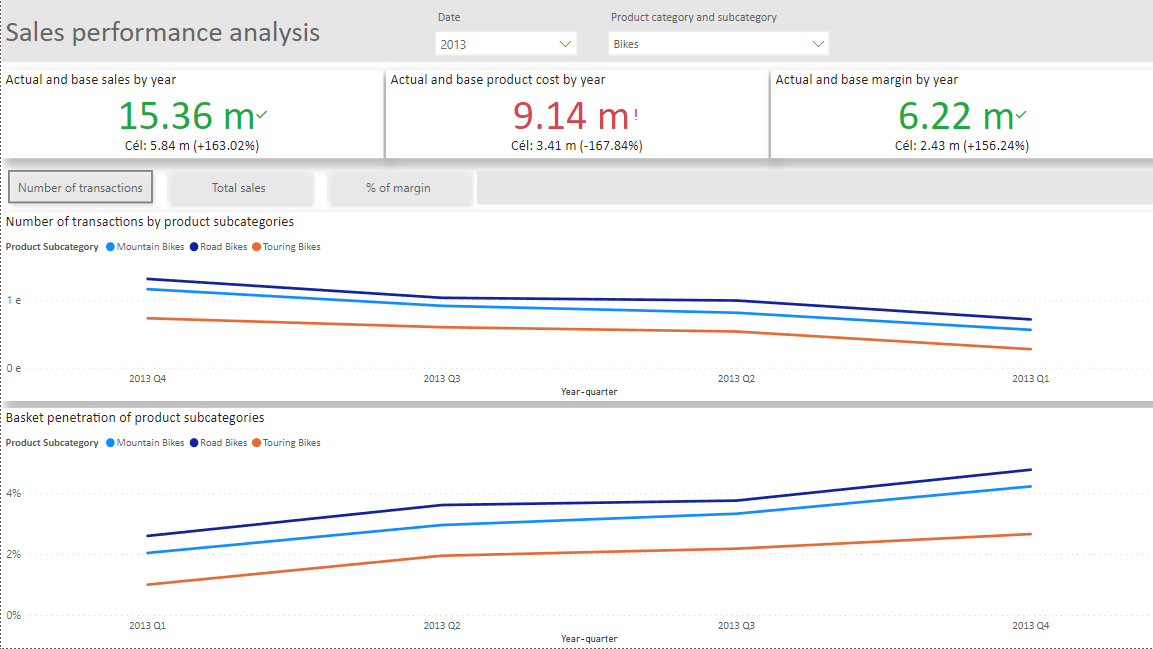

The page's visual inventory and layout, read from the dashboard file:
{"tool":"powerbi","page":{"name":"Transactions - Sales","canvas":[1280,720],"ordinal":0},"visuals":[{"type":"kpi","title":"Actual and base sales by year","fields":{"Indicator":["MeasureTable.ActualPeriodTotalSales"],"Goal":["MeasureTable.BasePeriodTotalSales"],"TrendLine":["DimDate.DateHierarchy.CalendarYear"]},"box":[0,78,424.5,98],"z":0,"group":"g1"},{"type":"kpi","title":"Actual and base product cost by year","fields":{"TrendLine":["DimDate.DateHierarchy.CalendarYear"],"Indicator":["MeasureTable.ActualPeriodTotalCost"],"Goal":["MeasureTable.BasePeriodTotalCost"]},"box":[427.7,78,424.5,98],"z":1000,"group":"g1"},{"type":"shape","title":"Box","box":[0,0,1280,69.1],"z":2000},{"type":"kpi","title":"Actual and base margin by year","fields":{"Indicator":["MeasureTable.ActualPeriodTotalMargin"],"Goal":["MeasureTable.BasePeriodTotalMargin"],"TrendLine":["DimDate.DateHierarchy.CalendarYear"]},"box":[855.5,78,424.5,98],"z":2000,"group":"g1"},{"type":"textbox","title":"Header","box":[0,9.7,554.4,50.6],"z":3000},{"type":"slicer","title":"Category/subcategory slicer","fields":{"Values":["DimProduct.CategoryHierarchy.Product Category","DimProduct.CategoryHierarchy.Product Subcategory"]},"box":[664.1,5.3,266.3,59.9],"z":4000},{"type":"slicer","title":"Date slicer","fields":{"Values":["DimDate.DateHierarchy.CalendarYear","DimDate.DateHierarchy.Year-quarter","DimDate.DateHierarchy.Year-month"]},"box":[472.6,5.3,177.5,59.9],"z":5000},{"type":"group","id":"g1","title":"KPI cards","box":[0,78,1280,98],"z":6000},{"type":"lineChart","title":"Number of transactions by product subcategories","fields":{"Category":["DimDate.DateHierarchy.CalendarYear","DimDate.DateHierarchy.Year-quarter","DimDate.DateHierarchy.Year-month","DimDate.DateHierarchy.Month-day"],"Series":["DimProduct.CategoryHierarchy.Product Subcategory"],"Y":["MeasureTable.NumberOfTransactions"]},"box":[0,235.3,1280,210.2],"z":7000},{"type":"lineChart","title":"Basket penetration of product subcategories","fields":{"Y":["MeasureTable.CategoryBasketPenetration"],"Category":["DimDate.DateHierarchy.CalendarYear","DimDate.DateHierarchy.Year-quarter","DimDate.DateHierarchy.Year-month","DimDate.DateHierarchy.Month-day"],"Series":["DimProduct.CategoryHierarchy.Product Subcategory"]},"box":[0,453.1,1280,266.9],"z":8000},{"type":"card","title":"Message","fields":{"Values":["MeasureTable.Message"]},"box":[0,504,1280,184],"z":9000},{"type":"actionButton","title":"Number of transactions button","box":[0,181,176,53],"z":10000},{"type":"actionButton","title":"Total sales button","box":[176,181,177,53],"z":11000},{"type":"actionButton","title":"%margin button","box":[353,181,176,53],"z":12000},{"type":"shape","title":"Box","box":[528.9,190,751.1,36.7],"z":13000},{"type":"shape","box":[7.5,188.8,160.8,37.1],"z":14000}]}

Visuals, with their boxes in screenshot pixels (x1, y1, x2, y2), scaled from the page's 1280x720 canvas onto the 1153x649 screenshot:
"Actual and base sales by year" kpi: [left=0, top=70, right=382, bottom=159]
"Actual and base product cost by year" kpi: [left=385, top=70, right=768, bottom=159]
"Box" shape: [left=0, top=0, right=1152, bottom=62]
"Actual and base margin by year" kpi: [left=771, top=70, right=1152, bottom=159]
"Header" textbox: [left=0, top=9, right=499, bottom=54]
"Category/subcategory slicer" slicer: [left=598, top=5, right=838, bottom=59]
"Date slicer" slicer: [left=426, top=5, right=586, bottom=59]
"KPI cards" group: [left=0, top=70, right=1152, bottom=159]
"Number of transactions by product subcategories" lineChart: [left=0, top=212, right=1152, bottom=402]
"Basket penetration of product subcategories" lineChart: [left=0, top=408, right=1152, bottom=648]
"Message" card: [left=0, top=454, right=1152, bottom=620]
"Number of transactions button" actionButton: [left=0, top=163, right=159, bottom=211]
"Total sales button" actionButton: [left=159, top=163, right=318, bottom=211]
"%margin button" actionButton: [left=318, top=163, right=477, bottom=211]
"Box" shape: [left=476, top=171, right=1152, bottom=204]
shape: [left=7, top=170, right=152, bottom=204]
